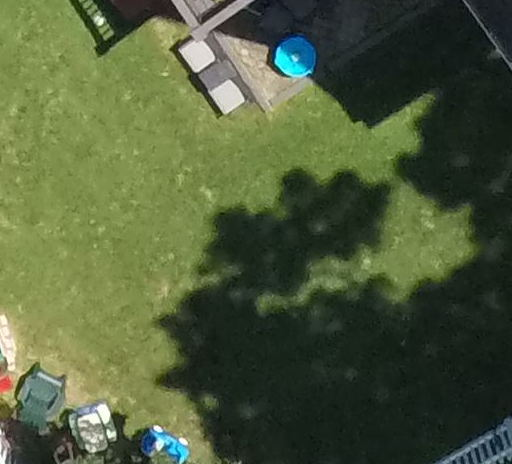toy: (132, 420, 195, 464)
